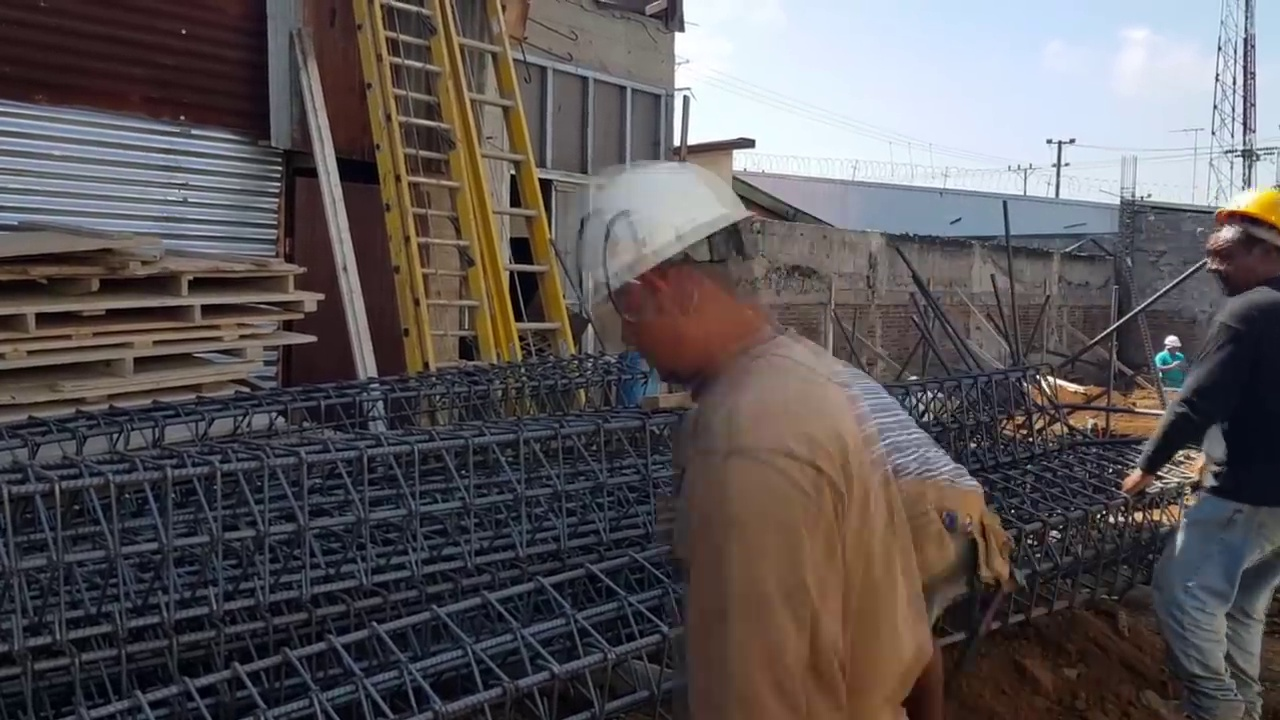helmet: (589, 162, 750, 331), (1211, 180, 1280, 227), (1163, 335, 1182, 347)
helmet-on: (573, 150, 794, 400), (1205, 178, 1280, 306), (1163, 335, 1183, 358)
person: (570, 144, 925, 720), (1150, 183, 1280, 720), (1154, 336, 1189, 397)
